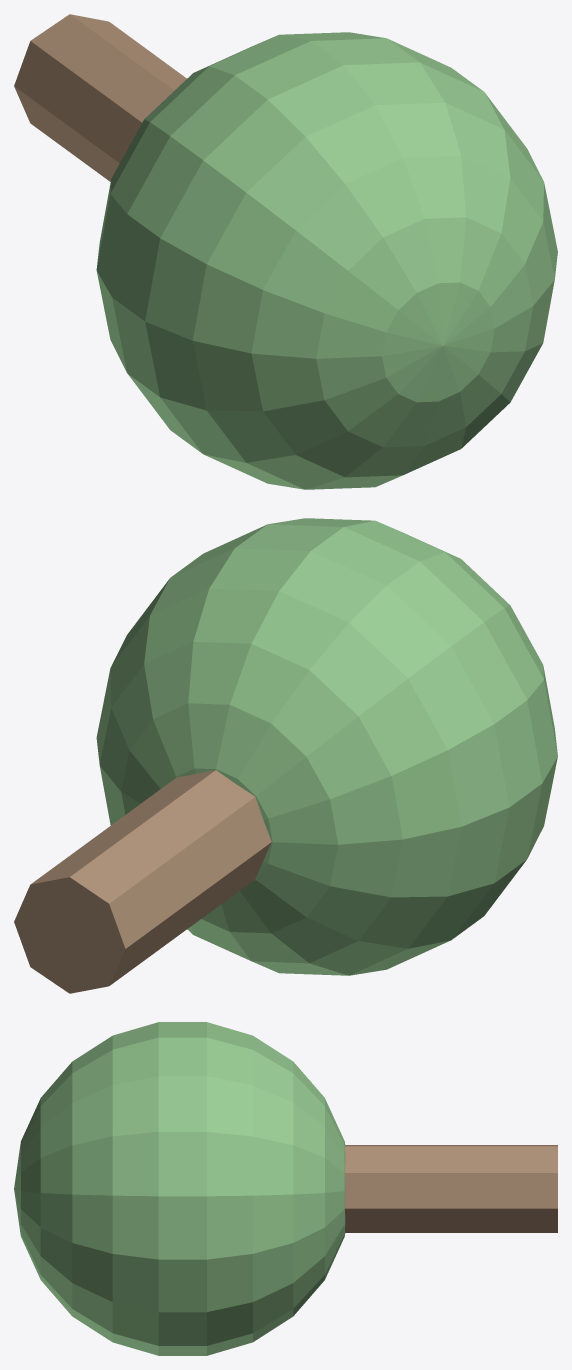
Rendered from tree.glb.
The picture shows the model from 3 angles, top to bottom: view 1: azimuth 30°, elevation 25°; view 2: azimuth 150°, elevation 25°; view 3: azimuth 270°, elevation 25°; orthographic projection. The views are drawn at different scales.
Visible parts, largest first — view 1: crown, trunk; view 2: crown, trunk; view 3: crown, trunk.
Part boxes in pixels (<box>): crown: <box>96,32,557,489</box>; trunk: <box>14,14,186,181</box>; crown: <box>96,518,557,975</box>; trunk: <box>14,770,271,993</box>; crown: <box>14,1022,345,1355</box>; trunk: <box>345,1145,557,1232</box>.
Size of the model in its own units: 1.78 by 1.78 by 2.9.
